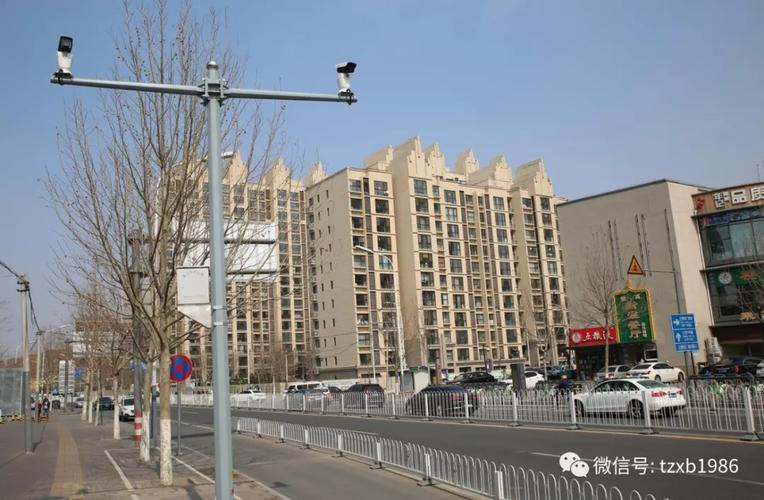camera: (55, 34, 76, 83), (334, 62, 359, 103)
car: (572, 379, 686, 416), (432, 370, 511, 390), (702, 359, 763, 380), (629, 362, 685, 384), (504, 368, 547, 390), (99, 397, 115, 412), (120, 407, 136, 421)
person: (554, 373, 575, 400)
sign: (674, 316, 700, 352), (166, 354, 193, 383), (627, 254, 645, 274)
